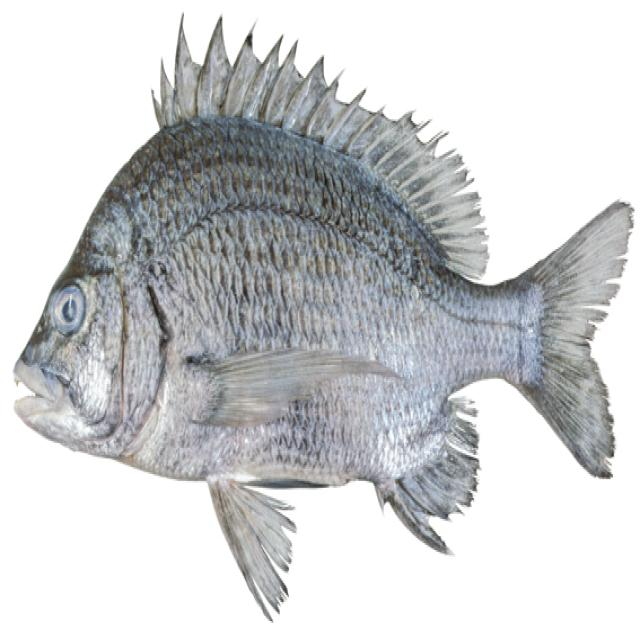ikan: (11, 10, 634, 621)
